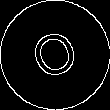O_S: (26, 23, 84, 87)
